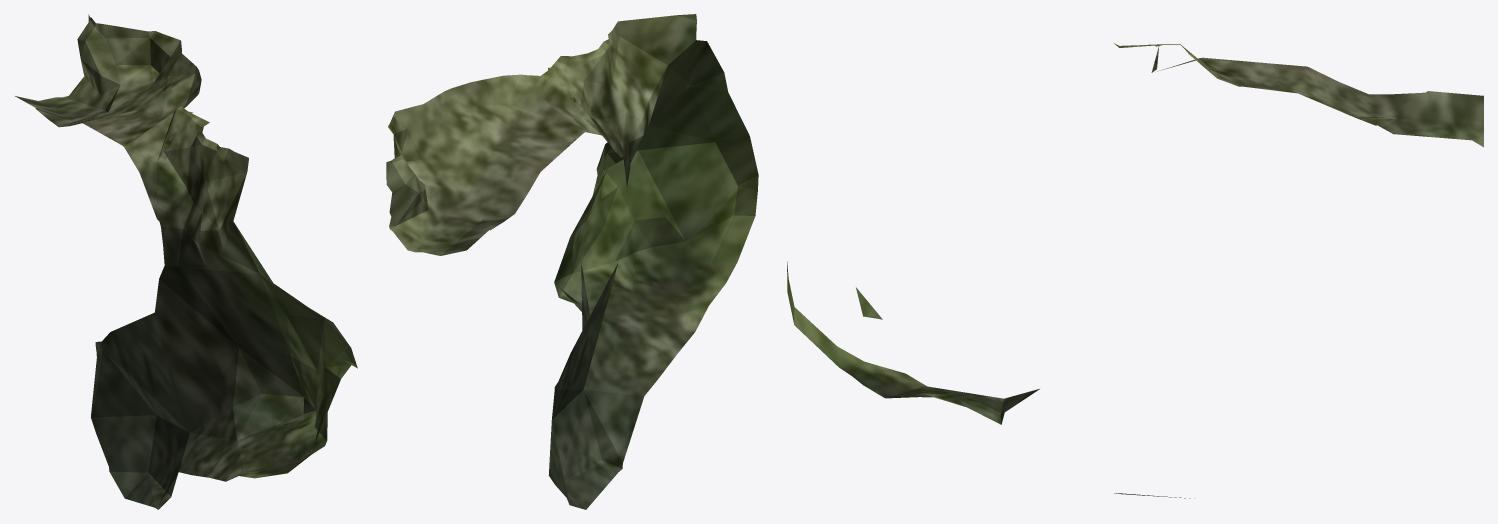
The picture shows the model from 3 angles, left to right: view 1: azimuth 30°, elevation 25°; view 2: azimuth 150°, elevation 25°; view 3: azimuth 270°, elevation 25°; orthographic projection. The views are drawn at different scales.
Size of the model in its own units: 0.6682 by 2.11 by 2.68.
1 material, 1 textured.
